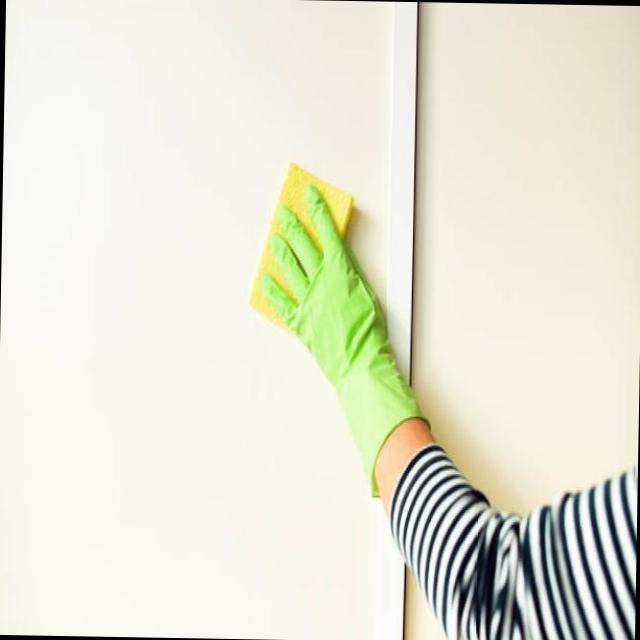Gloves: (252, 178, 434, 500)
